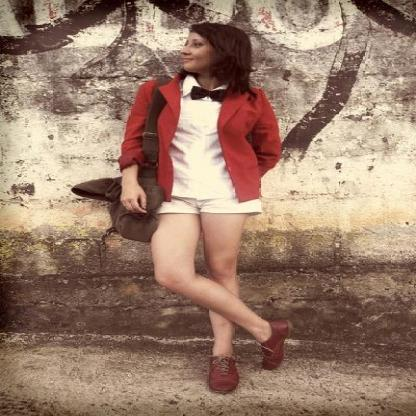bag: (71, 92, 166, 240)
jacket: (106, 64, 283, 202)
shirt: (170, 76, 235, 199)
shoe: (203, 318, 299, 395)
shorts: (160, 194, 261, 213)
